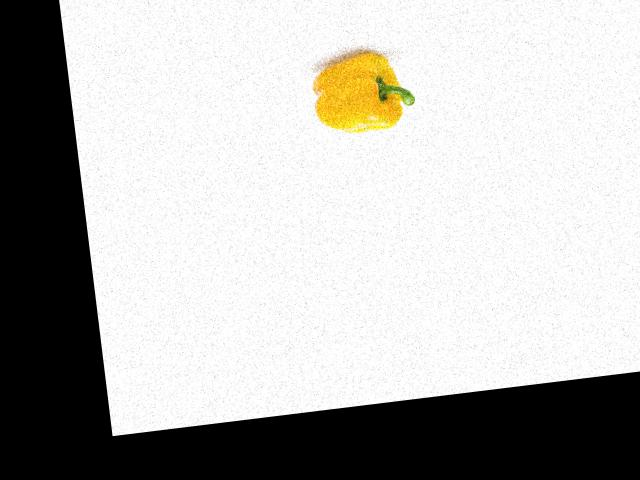bell_pepper: (306, 47, 427, 142)
